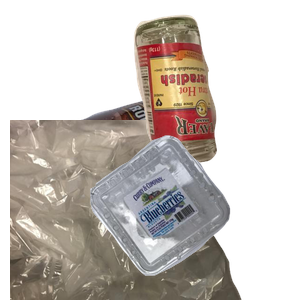glass: (131, 12, 300, 170)
metal: (60, 79, 300, 259)
plastic: (88, 133, 300, 300)
trash: (10, 120, 244, 300)
